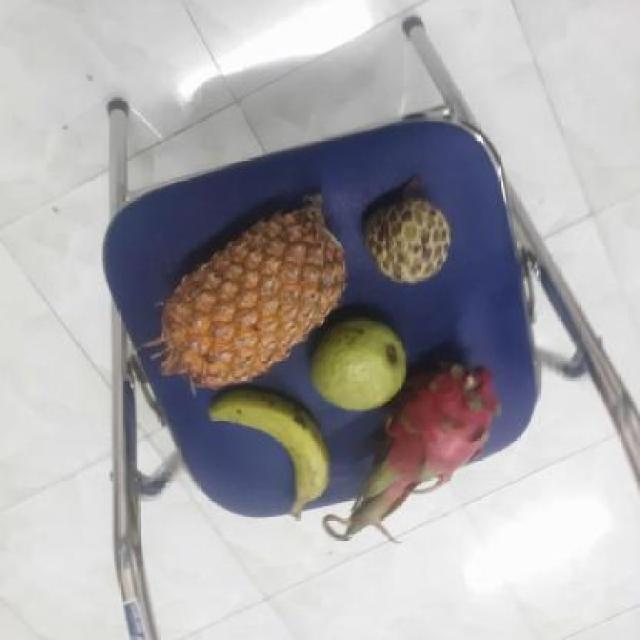banana: (205, 385, 328, 510)
dragon fruit: (358, 363, 490, 499)
guava: (306, 314, 409, 409)
pineapple: (150, 198, 348, 387)
sugar apple: (361, 196, 453, 284)
